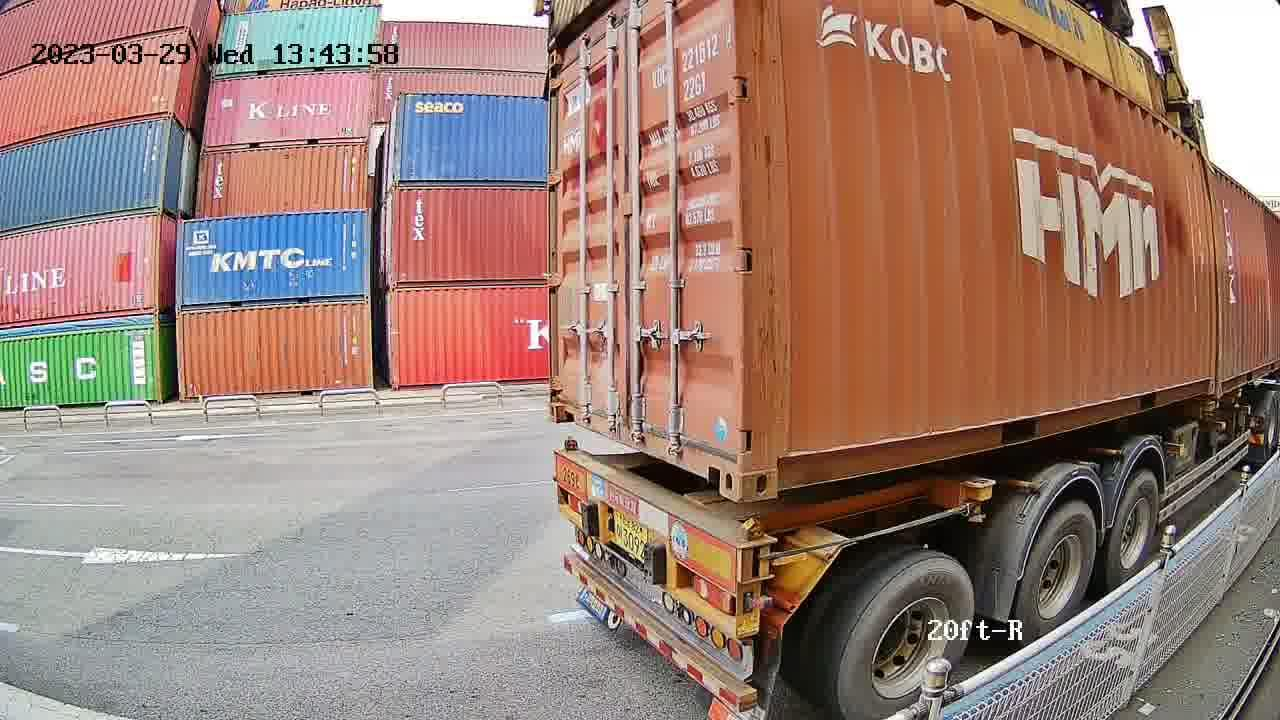Chassis: (555, 449, 775, 595)
Cone: (736, 518, 768, 577), (563, 437, 579, 453)
Hole_L: (743, 422, 815, 502), (547, 375, 582, 426)
Hole_R: (692, 423, 742, 503)
Tire: (839, 558, 975, 719), (1018, 503, 1097, 649), (1108, 475, 1159, 593)
